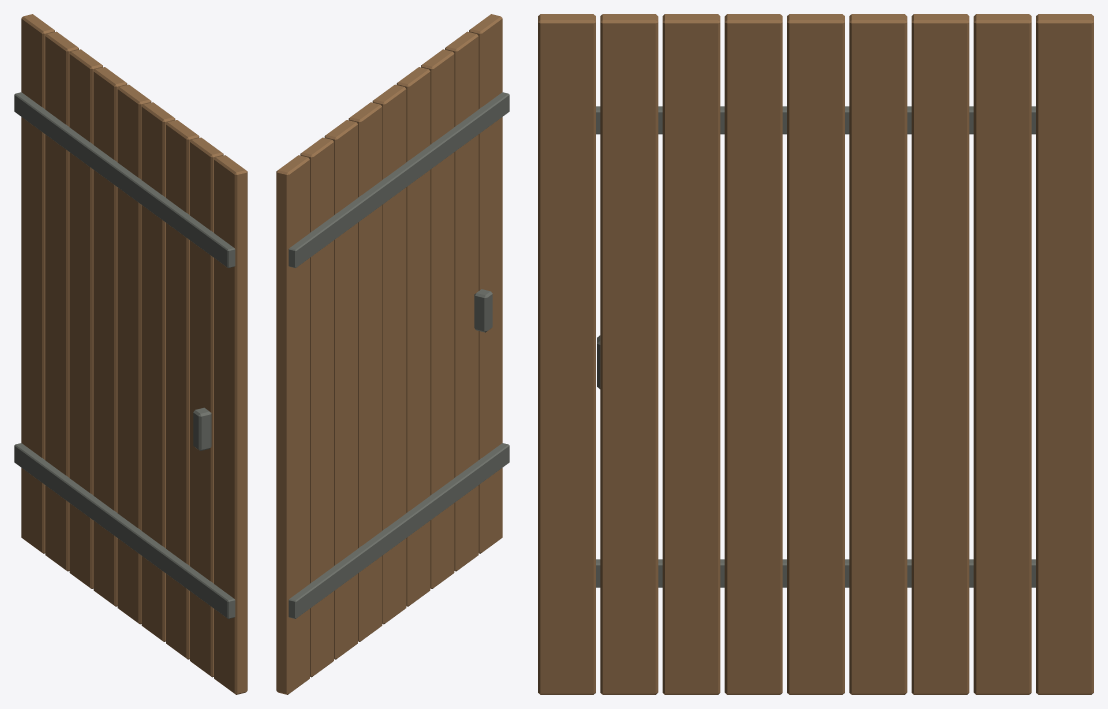
File: SM_WL_DoorLeaf160x215.fbx
3 renders of one model, left to right at view 1: azimuth 30°, elevation 25°; view 2: azimuth 150°, elevation 25°; view 3: azimuth 270°, elevation 25°, orthographic. The views are drawn at different scales.
Visible parts, largest first — view 1: SM_WL_DoorLeaf160x215; view 2: SM_WL_DoorLeaf160x215; view 3: SM_WL_DoorLeaf160x215.
Boxes of the visible parts, x1,y1,x2,y2 form: SM_WL_DoorLeaf160x215: (14, 14, 247, 694); SM_WL_DoorLeaf160x215: (276, 14, 509, 694); SM_WL_DoorLeaf160x215: (538, 14, 1093, 694).
Size of the model in its own units: 1.57 by 0.11 by 2.1.
